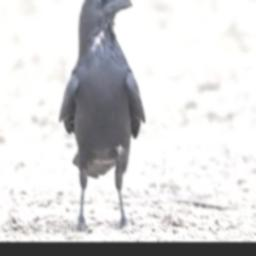Crow: (57, 0, 148, 234)
